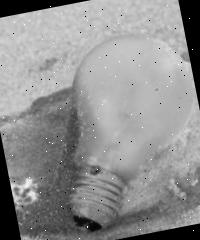lightbulb: (37, 22, 200, 234)
